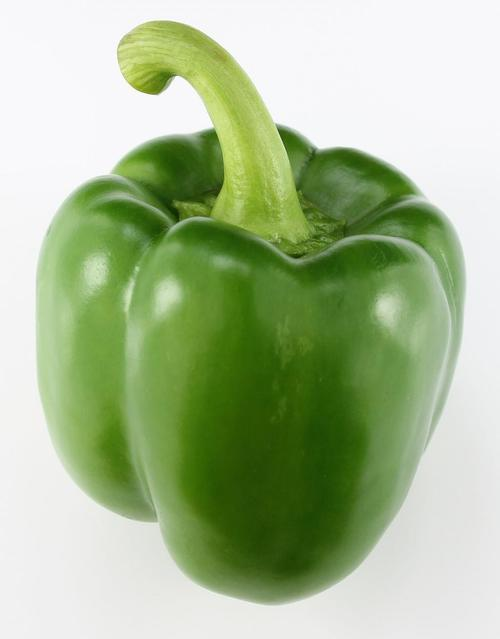fruit_pepper: (28, 17, 471, 608)
